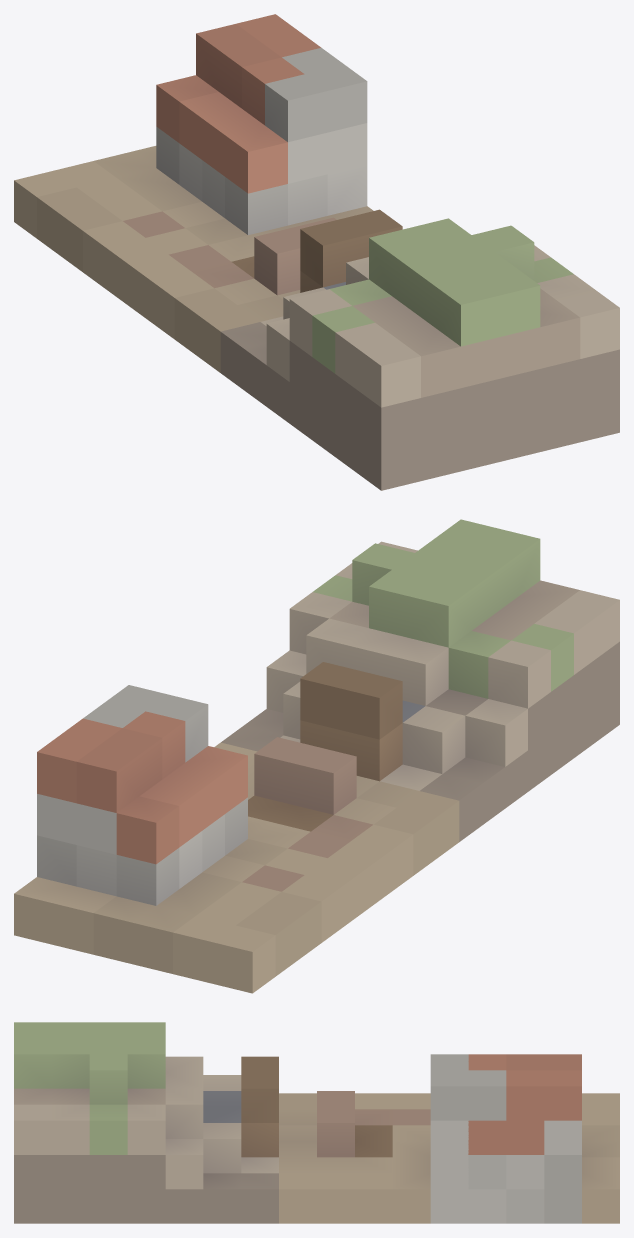
Rendered from iron_mine.lite.glb.
The picture shows the model from 3 angles, top to bottom: view 1: azimuth 30°, elevation 25°; view 2: azimuth 150°, elevation 25°; view 3: azimuth 270°, elevation 25°; orthographic projection. The views are drawn at different scales.
Parts seen in each view (by area): view 1: iron_mine; view 2: iron_mine; view 3: iron_mine.
Boxes of the visible parts, box(x1,y1,x2,y2) form: iron_mine: box(14, 14, 619, 490); iron_mine: box(14, 519, 619, 993); iron_mine: box(14, 1022, 619, 1223).
Size of the model in its own units: 3 by 2 by 8.
